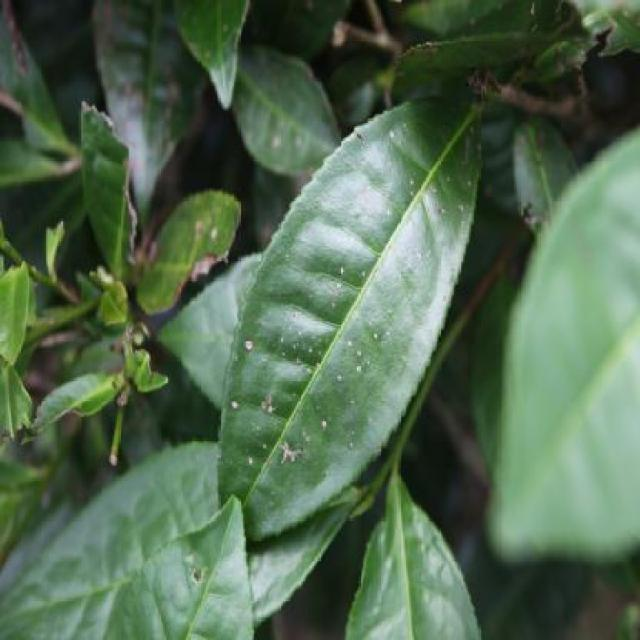Leaf rust of tea: (204, 78, 493, 530)
